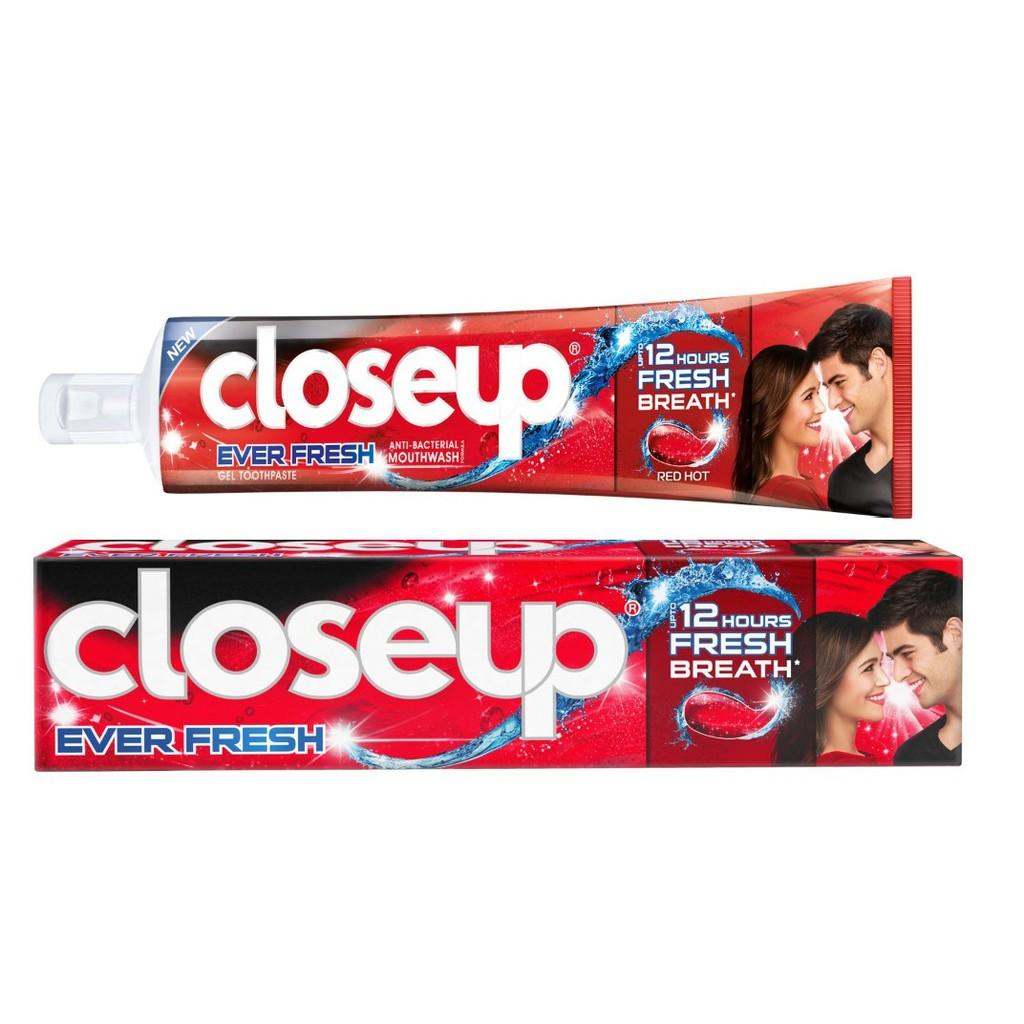CloseUp: (33, 533, 968, 774)
